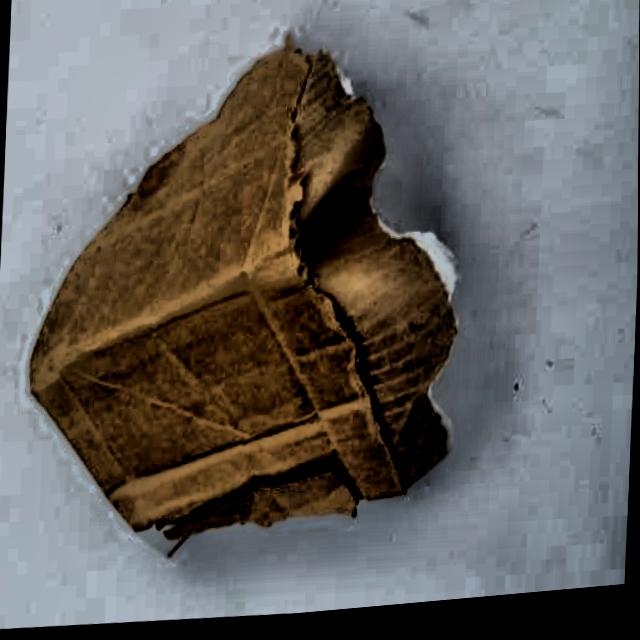Cardbox: (4, 0, 494, 604)
